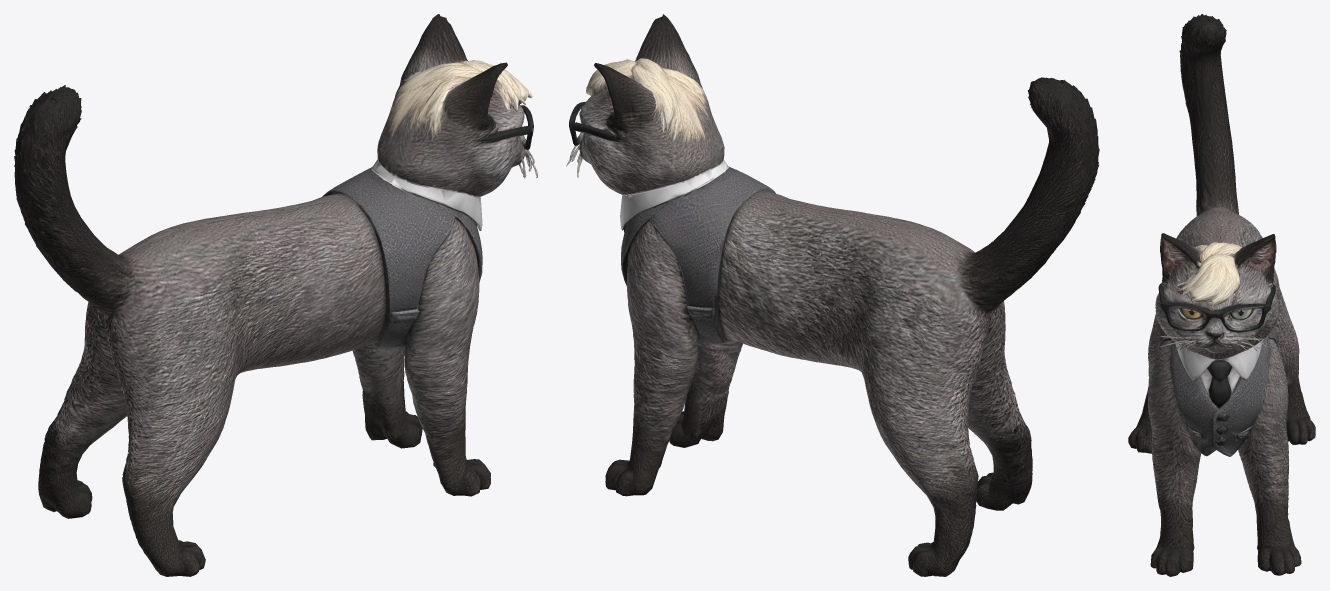
Rendered from RAYMONDCAT.glb.
3 views of the same model, side by side, from view 1: azimuth 30°, elevation 25°; view 2: azimuth 150°, elevation 25°; view 3: azimuth 270°, elevation 25° (orthographic). The views are drawn at different scales.
Visible parts, largest first — view 1: tripo_node_8a9ffb58-7505-479d-ab15-20c0cc78180e; view 2: tripo_node_8a9ffb58-7505-479d-ab15-20c0cc78180e; view 3: tripo_node_8a9ffb58-7505-479d-ab15-20c0cc78180e.
Boxes of the visible parts, bbox=[...] form: tripo_node_8a9ffb58-7505-479d-ab15-20c0cc78180e: bbox=[14, 14, 537, 576]; tripo_node_8a9ffb58-7505-479d-ab15-20c0cc78180e: bbox=[566, 14, 1099, 576]; tripo_node_8a9ffb58-7505-479d-ab15-20c0cc78180e: bbox=[1128, 14, 1315, 576].
Bounding box in the file's own units: 1.12 × 0.9993 × 0.4276.
1 material, 1 textured.
